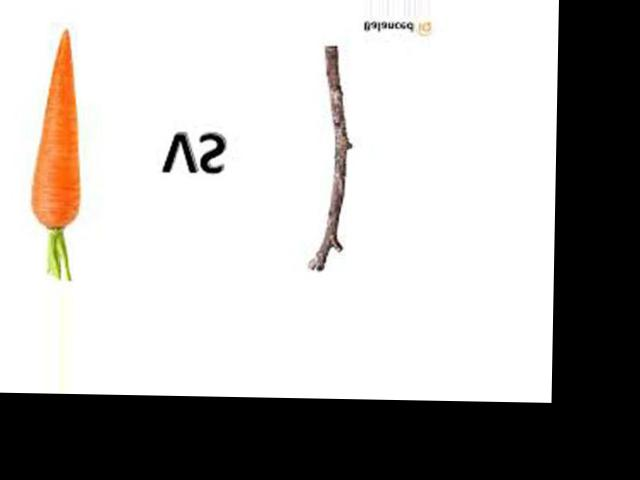carrot: (27, 21, 92, 239)
